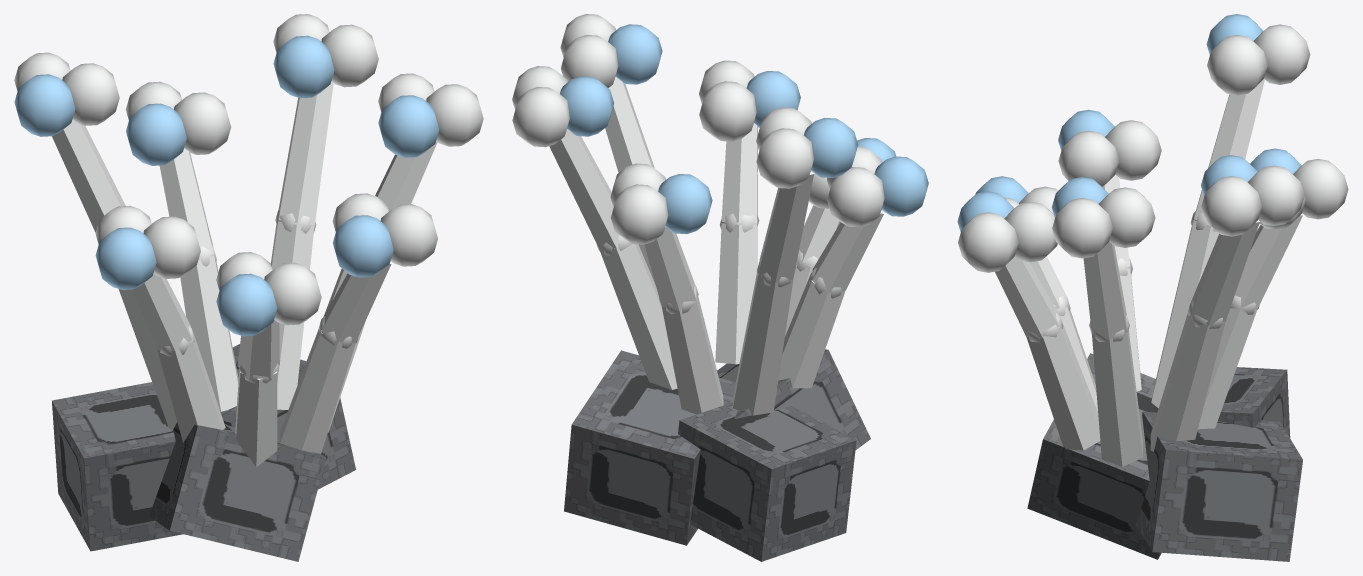
Rendered from WhiteSoftCoral.glb.
3 views of the same model, side by side, from view 1: azimuth 30°, elevation 25°; view 2: azimuth 150°, elevation 25°; view 3: azimuth 270°, elevation 25° (orthographic). The views are drawn at different scales.
Parts seen in each view (by area): view 1: WhiteSoftCoral; view 2: WhiteSoftCoral; view 3: WhiteSoftCoral.
Boxes of the visible parts, bbox=[...] form: WhiteSoftCoral: bbox=[14, 14, 483, 561]; WhiteSoftCoral: bbox=[512, 14, 928, 561]; WhiteSoftCoral: bbox=[957, 14, 1348, 561].
Bounding box in the file's own units: 4.47 × 5.32 × 4.11.
1 material, 1 textured.
